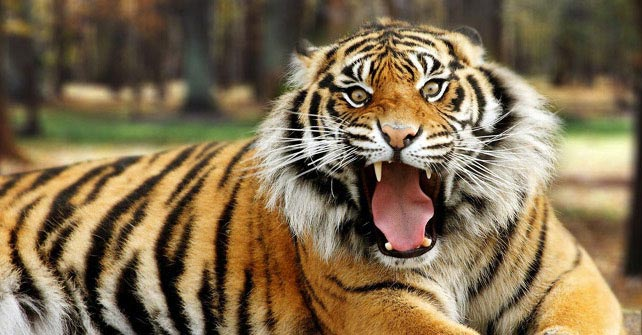Tiger: (174, 9, 637, 335)
